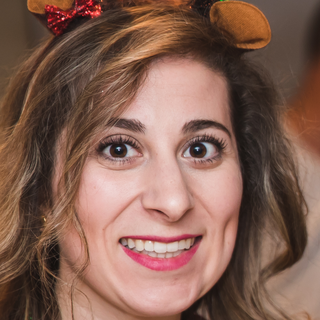eye: (94, 135, 142, 164), (177, 136, 223, 164)
